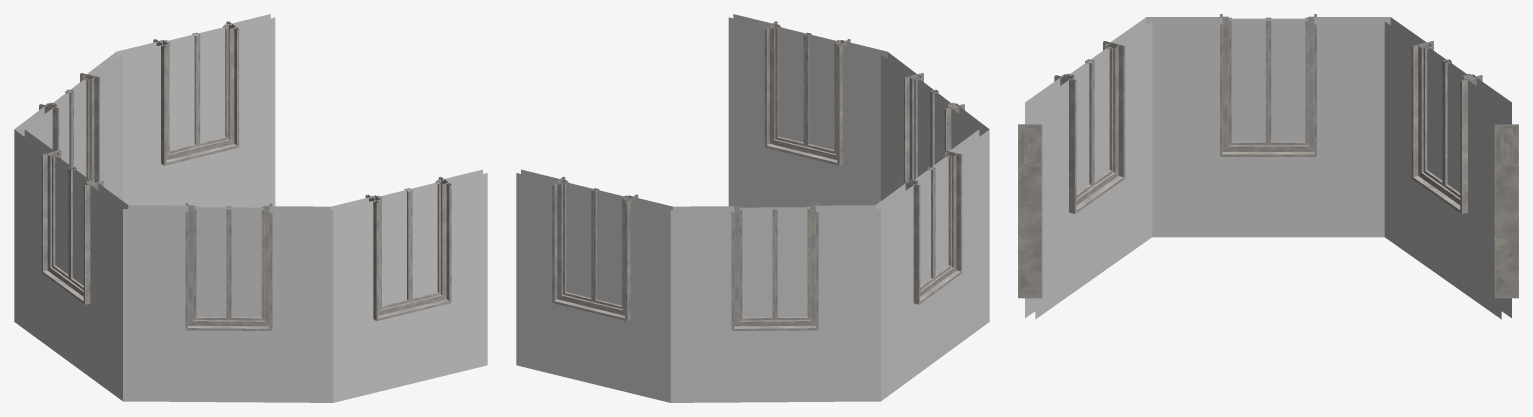
File: Ambulatory_Inner_B_F.fbx
3 renders of one model, left to right at view 1: azimuth 30°, elevation 25°; view 2: azimuth 150°, elevation 25°; view 3: azimuth 270°, elevation 25°, orthographic. The views are drawn at different scales.
Parts seen in each view (by area): view 1: Ambulatory_Inner_B_F; view 2: Ambulatory_Inner_B_F; view 3: Ambulatory_Inner_B_F.
Boxes of the visible parts, x1=… form: Ambulatory_Inner_B_F: x1=14, y1=14, x2=487, y2=402; Ambulatory_Inner_B_F: x1=516, y1=14, x2=989, y2=402; Ambulatory_Inner_B_F: x1=1018, y1=14, x2=1518, y2=319.
Size of the model in its own units: 10.31 by 12.61 by 6.
